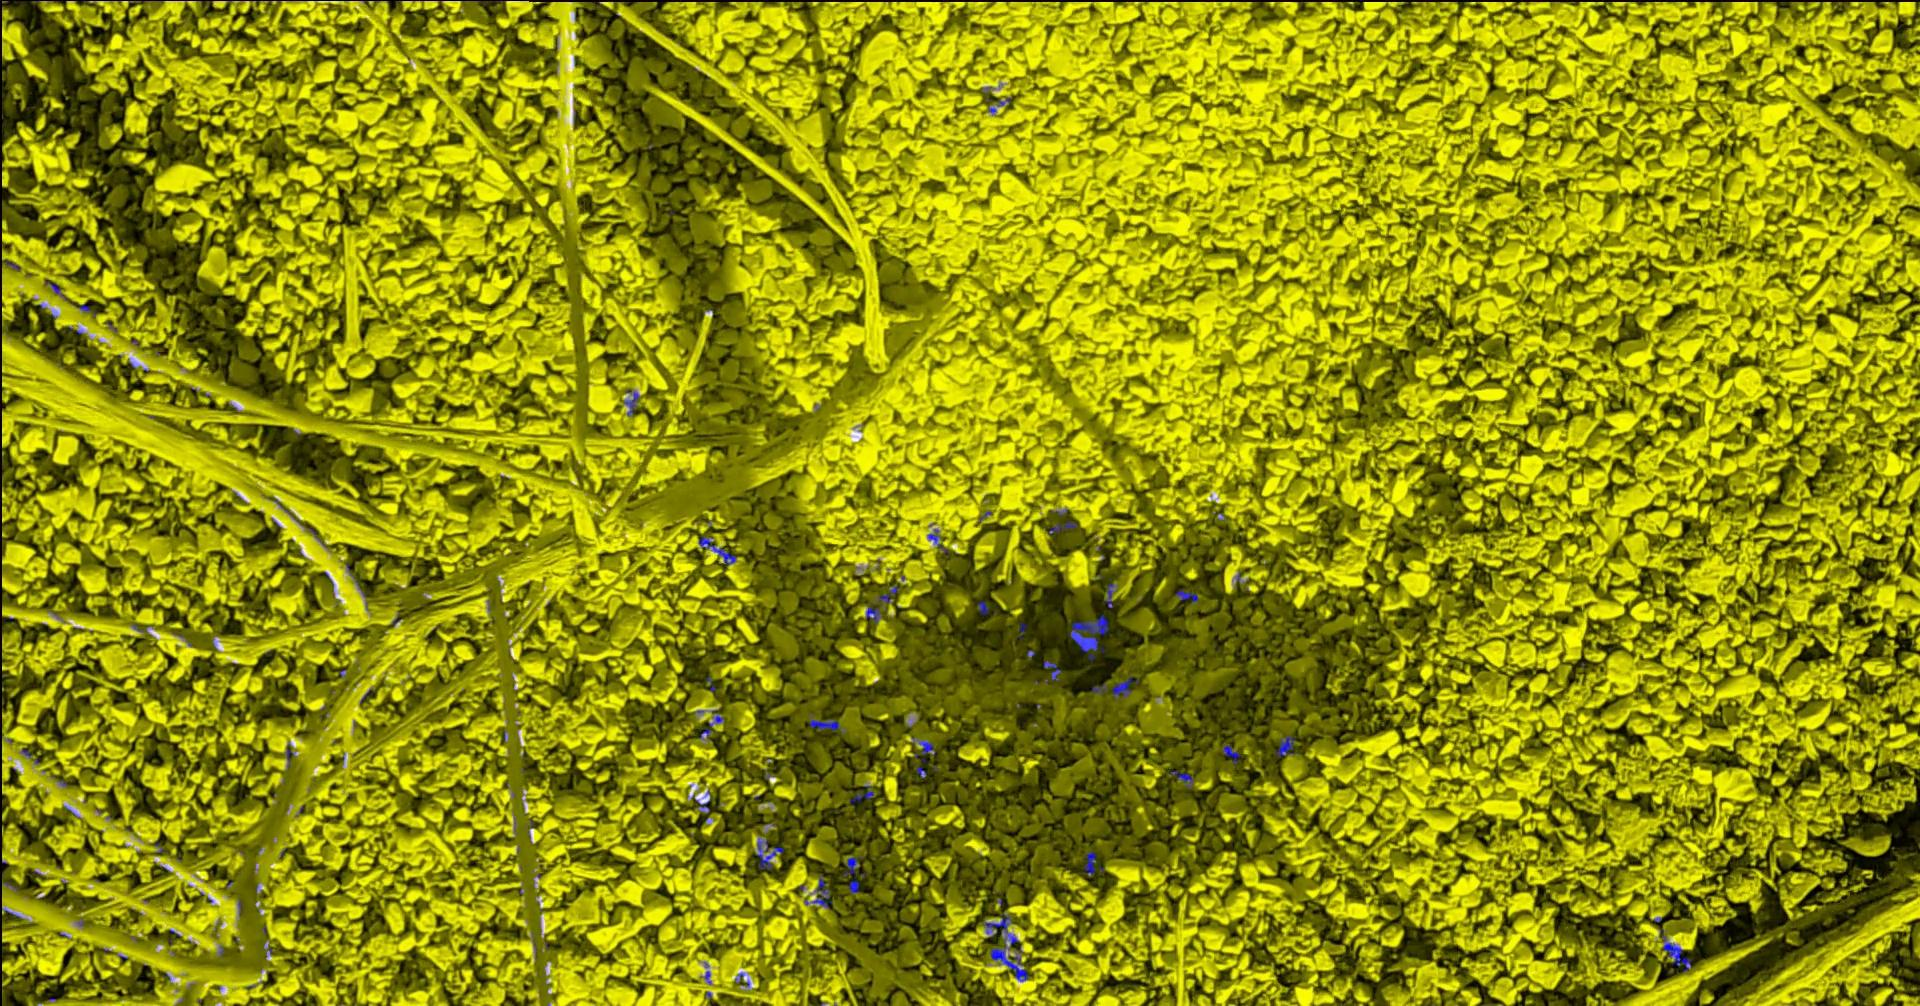ant: (984, 915, 1030, 981), (1070, 614, 1110, 663), (1661, 929, 1693, 972), (867, 586, 900, 622), (700, 535, 738, 565), (1093, 674, 1140, 699), (806, 875, 834, 908), (757, 837, 785, 869), (844, 855, 863, 894), (810, 713, 847, 733), (700, 709, 725, 738), (913, 737, 937, 762), (690, 794, 711, 821), (1084, 851, 1105, 876), (930, 528, 950, 553), (46, 279, 69, 300), (625, 389, 641, 417), (1170, 770, 1195, 788), (1277, 735, 1299, 756), (851, 785, 875, 803), (1044, 661, 1062, 681), (1050, 521, 1078, 533), (1223, 744, 1241, 763), (1177, 589, 1200, 603), (1106, 582, 1117, 607), (979, 601, 996, 615)
